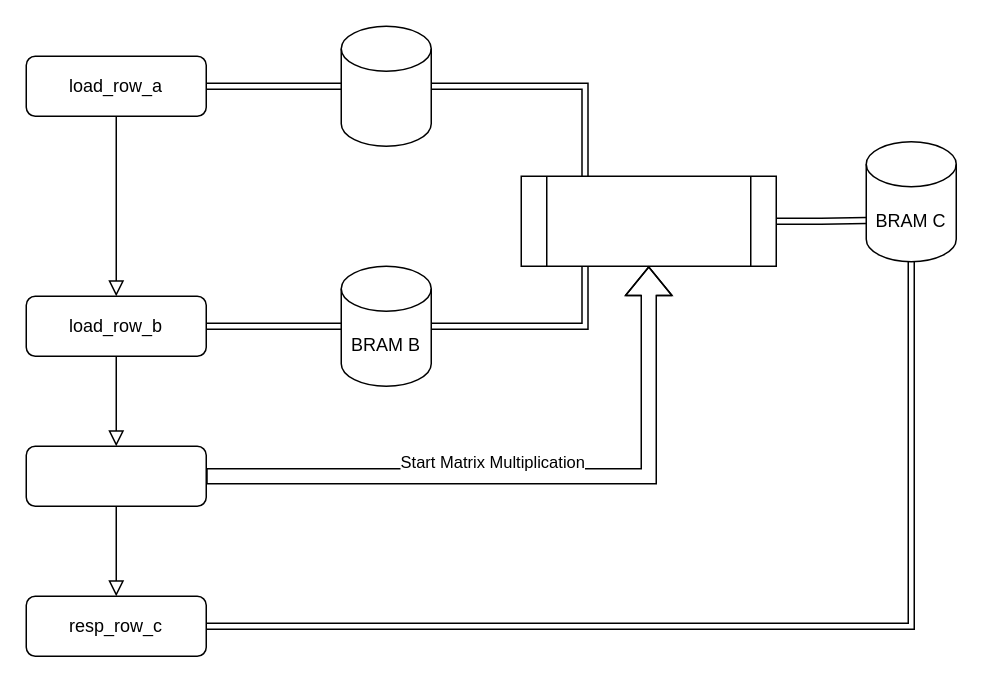
This 983x683 diagram has some shape labels left out. The shapes that lost their labels are listed below. From the top down, each one's centre as x and y in pixels, then its label:
At pixel 385 85: "BRAM A".
At pixel 648 220: "c ij,f =a ik * b ik + c ij,i".
At pixel 115 475: "start".
